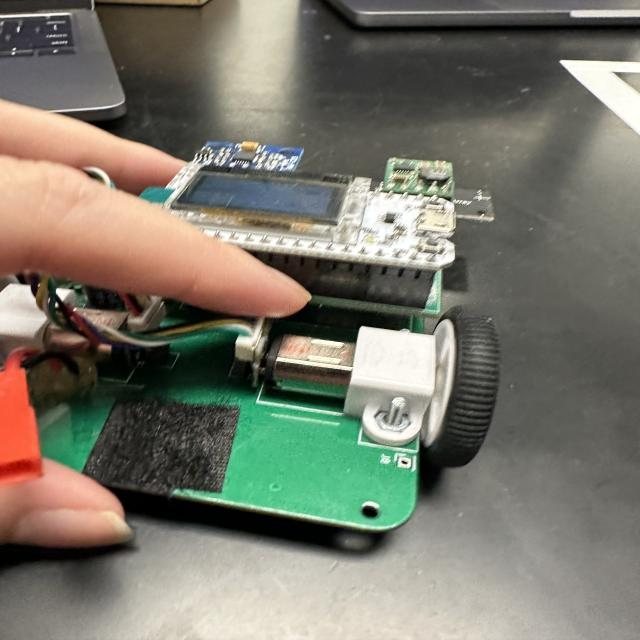robot: (2, 138, 503, 547)
